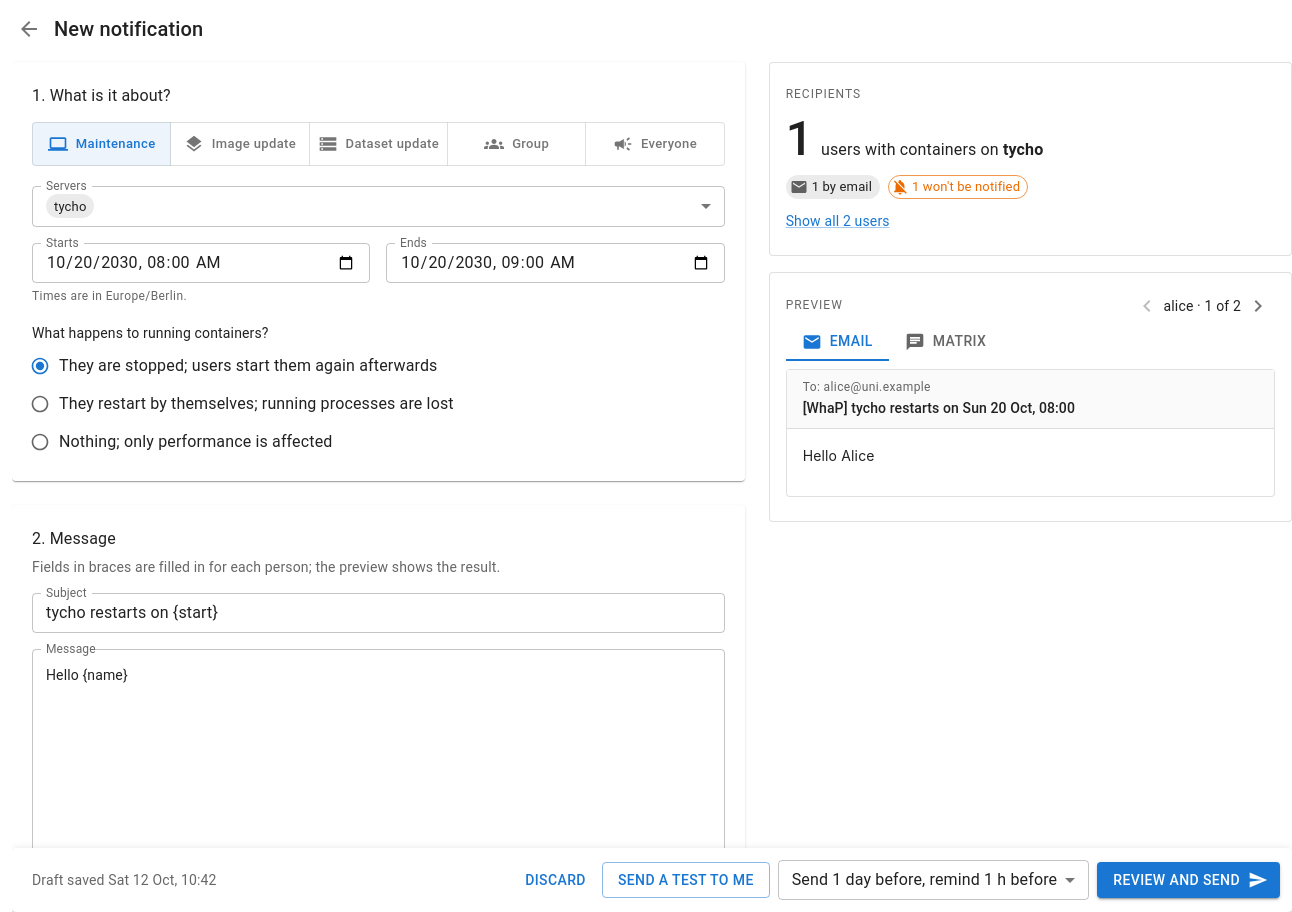
Test: the preview steps through the recipients
The width and height of the screenshot is (1292, 912).
Expected: the heading "1. What is it about?" is shown, [32,86,171,105]
Expected: the text "alice · 1 of 2" is shown, [1164,296,1241,316]
Click the button named "Next recipient".
click(1258, 306)  # box [1241,289,1275,323]
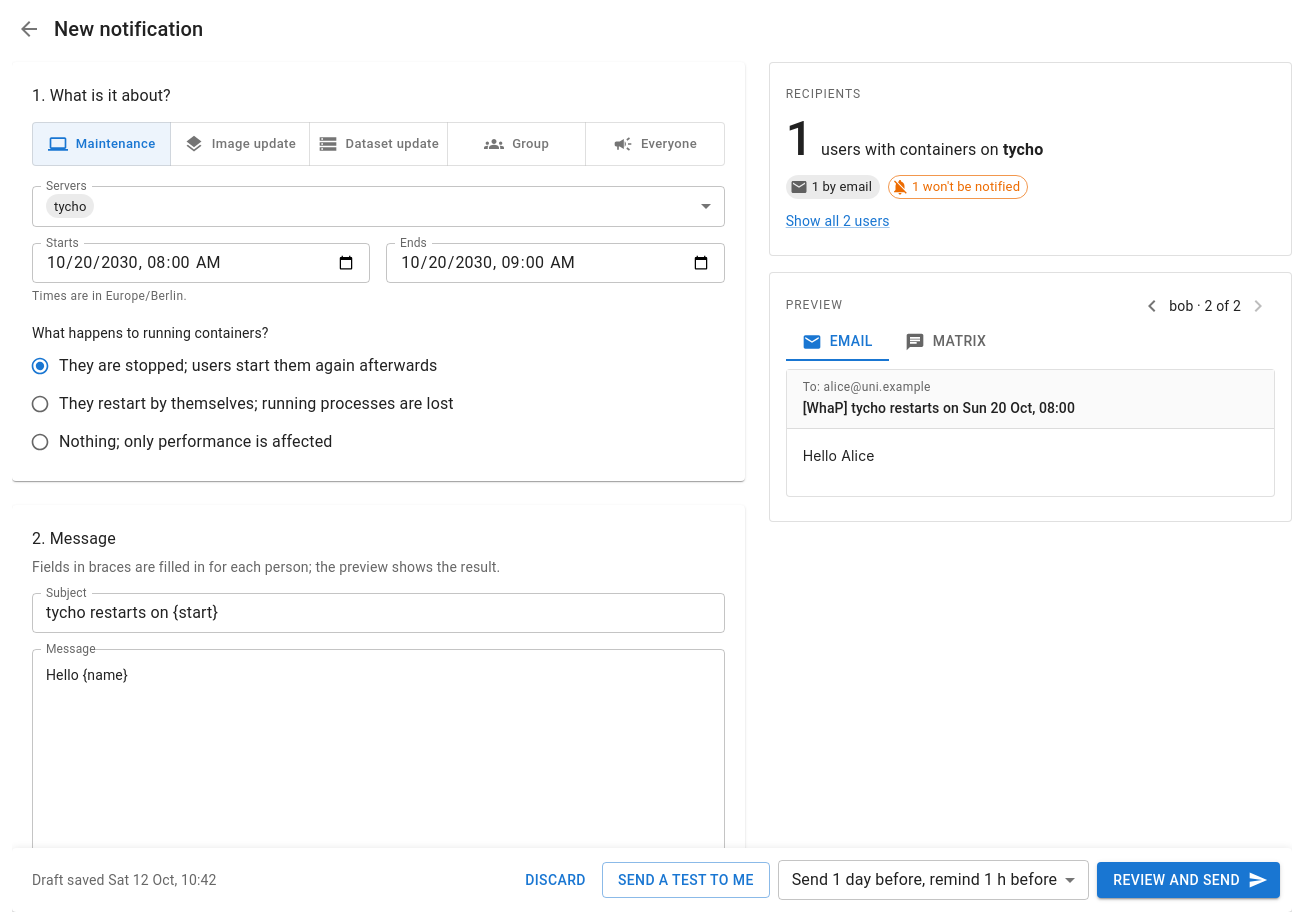
Expected: the text "bob · 2 of 2" is shown, [1169,296,1241,316]
